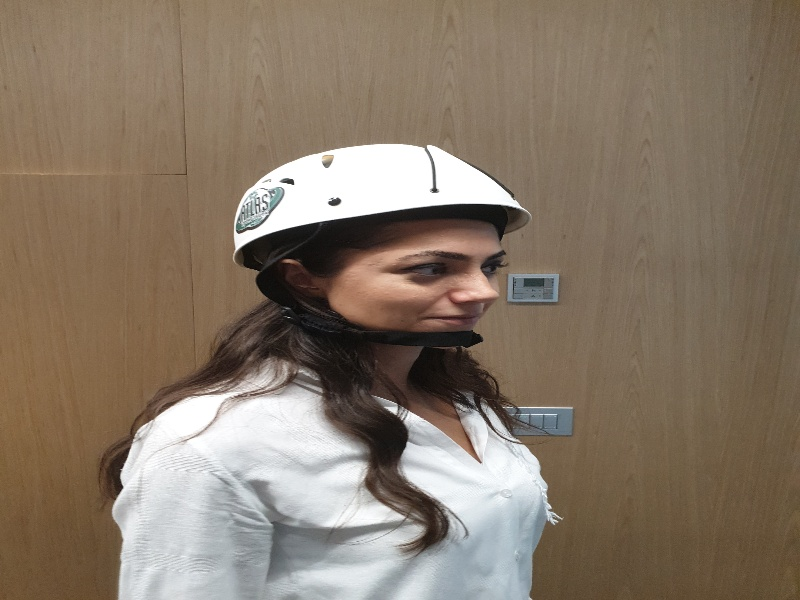Baret: (233, 144, 526, 255)
